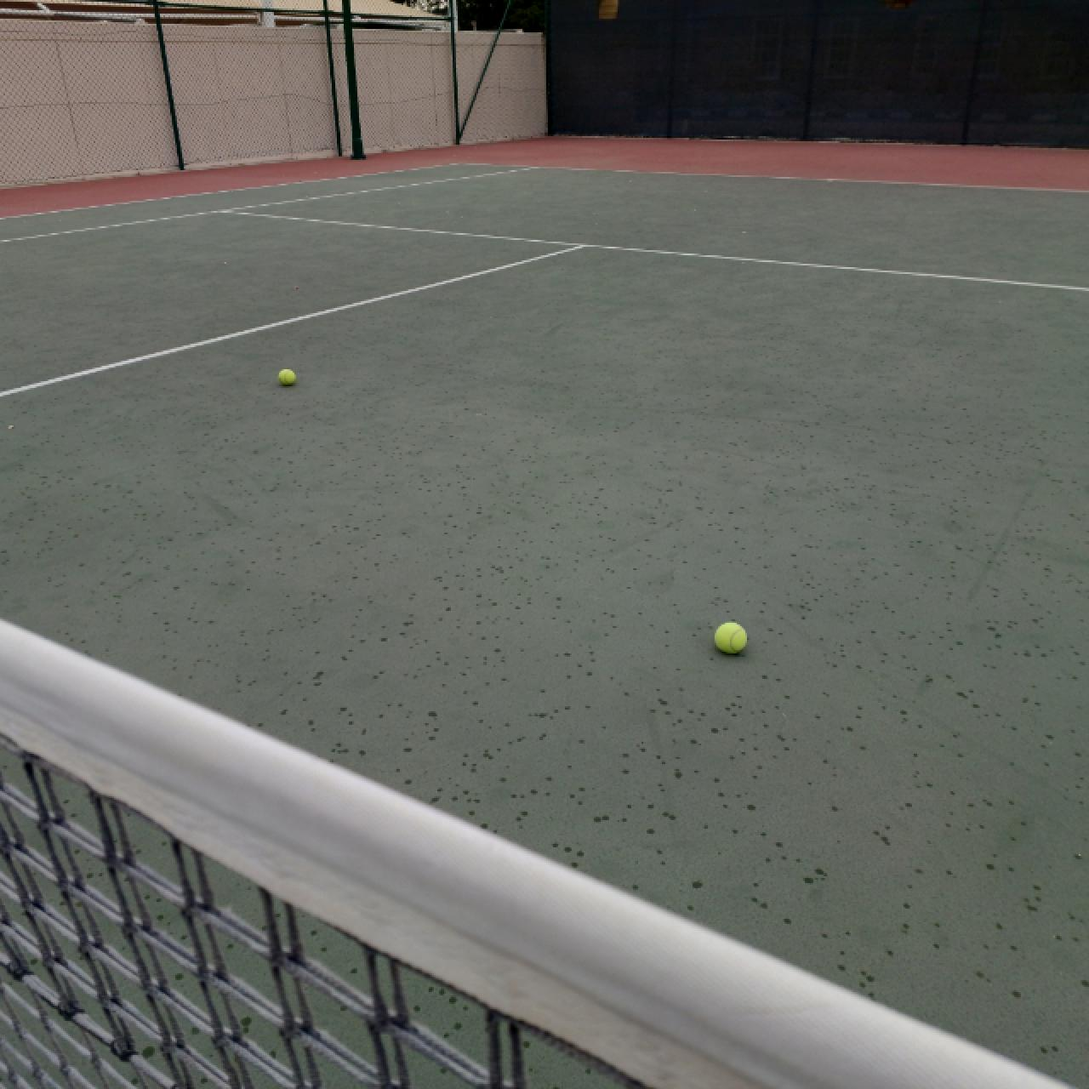tennis-ball: (711, 619, 748, 656), (279, 367, 296, 385)
